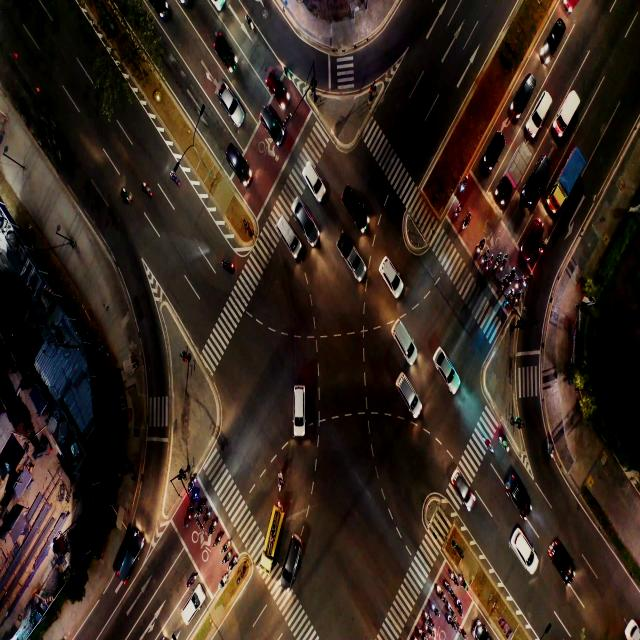bus: (268, 525, 280, 545)
car: (123, 540, 135, 573), (286, 541, 296, 577), (396, 378, 413, 397), (381, 262, 396, 283), (263, 108, 277, 126), (217, 30, 227, 55), (294, 387, 302, 418), (516, 540, 529, 559), (435, 350, 446, 372), (351, 194, 360, 219), (396, 328, 409, 345), (222, 88, 233, 108), (184, 597, 195, 617), (509, 474, 518, 498), (538, 98, 548, 118), (556, 545, 565, 567), (296, 207, 306, 226), (230, 148, 240, 166), (531, 224, 539, 246), (491, 134, 501, 151), (270, 75, 278, 94), (280, 219, 288, 238), (456, 475, 466, 489), (537, 163, 544, 181), (549, 34, 559, 46), (519, 88, 525, 102), (310, 167, 314, 184)
motorcycle: (246, 16, 253, 30), (144, 183, 150, 198), (484, 440, 492, 449), (215, 532, 220, 546), (459, 575, 466, 584), (189, 573, 195, 583), (540, 243, 546, 253), (508, 289, 513, 301), (502, 280, 507, 291), (429, 600, 435, 609), (199, 505, 203, 518), (185, 514, 190, 524), (278, 476, 283, 486), (482, 254, 487, 264), (499, 439, 506, 446), (220, 575, 224, 587), (124, 187, 128, 199), (224, 263, 232, 269), (510, 272, 514, 284), (170, 173, 175, 182), (210, 521, 214, 532), (464, 218, 470, 225), (487, 257, 491, 267), (517, 293, 522, 301), (525, 275, 529, 285), (447, 615, 452, 623), (424, 612, 429, 620), (204, 512, 208, 521), (225, 542, 229, 551), (230, 560, 234, 569), (478, 241, 483, 248), (416, 627, 421, 634), (190, 479, 194, 487), (452, 572, 456, 580), (448, 604, 452, 612), (460, 626, 464, 634), (425, 626, 430, 632), (463, 179, 467, 186), (455, 207, 459, 214), (495, 260, 499, 267), (516, 280, 520, 287), (500, 261, 504, 267), (437, 585, 441, 591), (458, 598, 460, 608), (193, 494, 196, 500), (224, 555, 226, 562), (446, 581, 448, 587)
truck: (561, 96, 574, 126), (511, 153, 520, 181), (340, 236, 350, 253), (565, 166, 574, 183)
